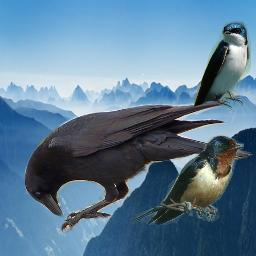Crow: (24, 101, 253, 235)
Swallow: (130, 135, 244, 225), (194, 21, 251, 110)
